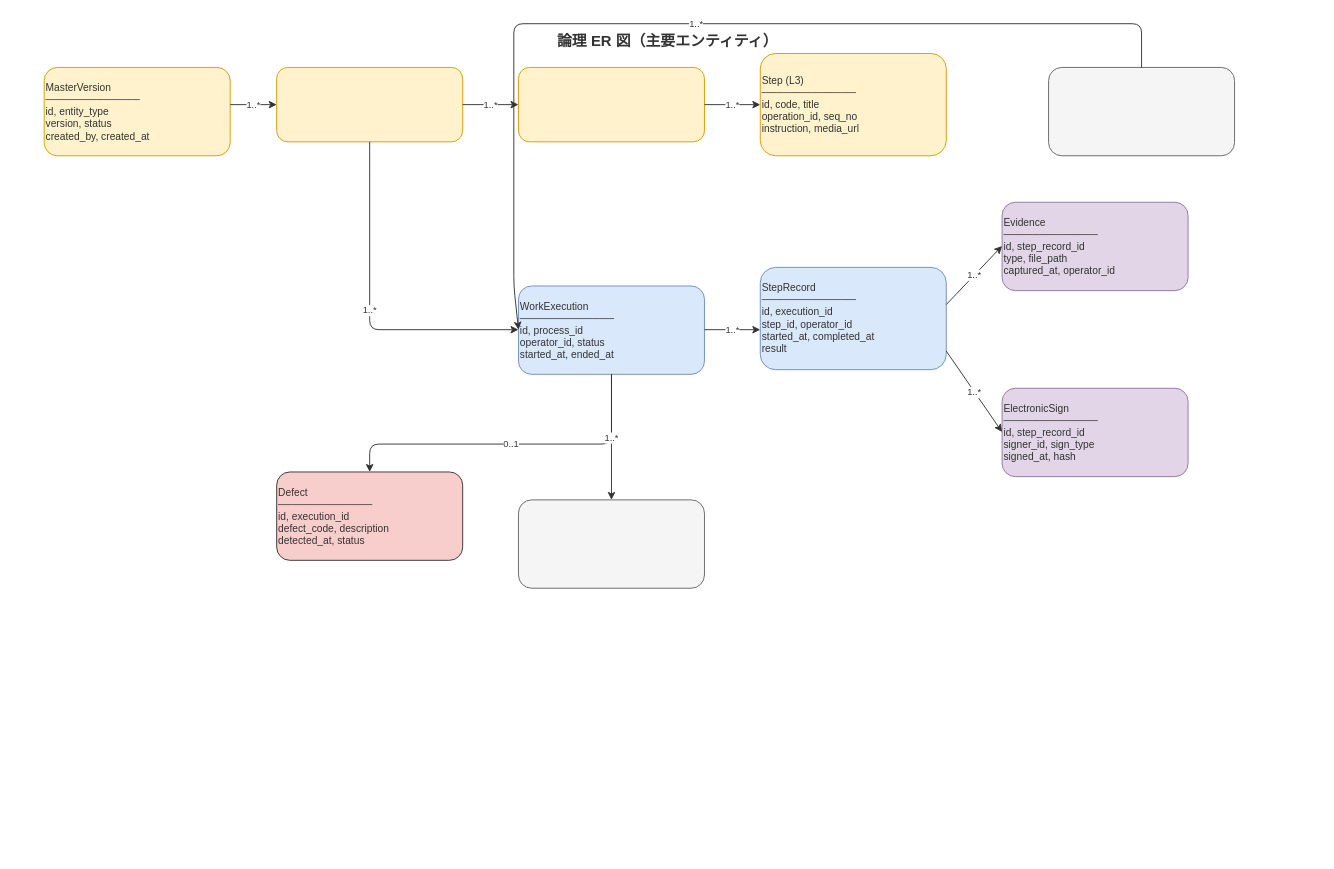
The diagram is 1334 pixels wide and 869 high, and some of its shapes have lost their labels. The centre of each missing label's shape, as x and y in pixels:
"Operation (L2) ───────────── id, code, name process_id, seq_no" goes at point (611, 104).
"Outbox ───────────── id, idempotency_key event_type, payload status, retry_count" goes at point (611, 543).
"Process (L1) ───────────── id, code, name version_id, status" goes at point (369, 104).
"User ───────────── id, login_id display_name, role site_id, is_active" goes at point (1141, 111).
